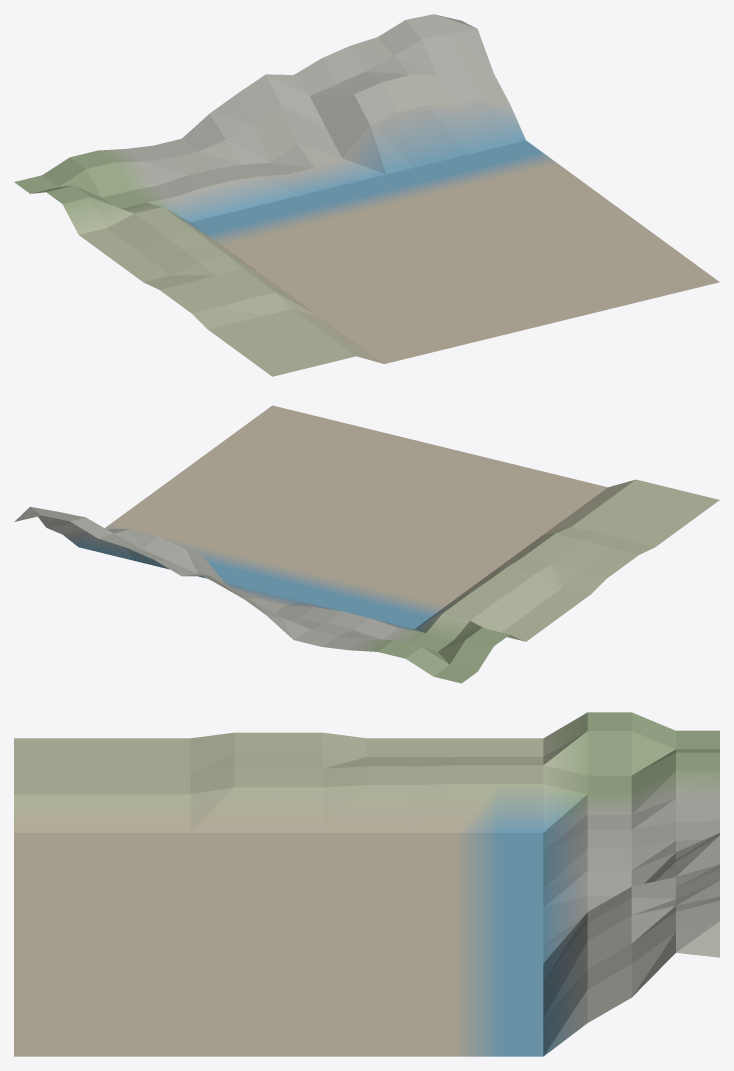
3 views of the same model, one above another, from view 1: azimuth 30°, elevation 25°; view 2: azimuth 150°, elevation 25°; view 3: azimuth 270°, elevation 25° (orthographic). The views are drawn at different scales.
Bounding box in the file's own units: 32 × 5.93 × 32.
